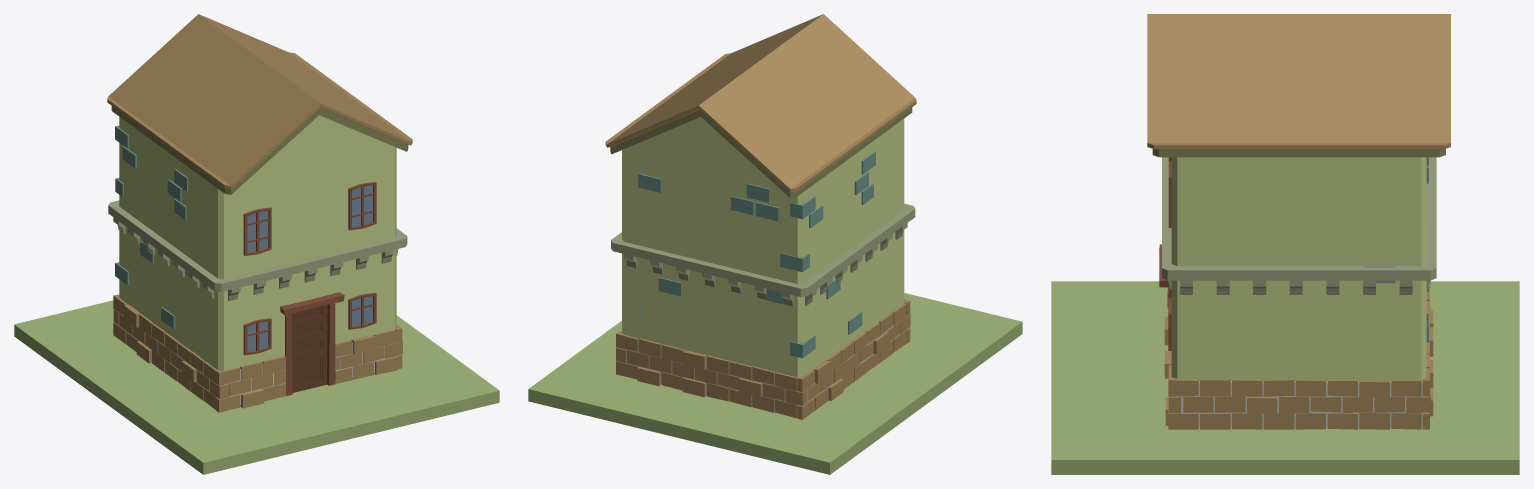
Rendered from 2.bina 1.fbx.
The picture shows the model from 3 angles, left to right: view 1: azimuth 30°, elevation 25°; view 2: azimuth 150°, elevation 25°; view 3: azimuth 270°, elevation 25°; orthographic projection. The views are drawn at different scales.
Parts seen in each view (by area): view 1: 2Story_GableRoof_Mat, Cube; view 2: 2Story_GableRoof_Mat, Cube; view 3: 2Story_GableRoof_Mat, Cube.
Part boxes in pixels (x1,y1,x2,y2): 2Story_GableRoof_Mat: [107, 14, 412, 412]; Cube: [14, 300, 499, 474]; 2Story_GableRoof_Mat: [605, 14, 916, 419]; Cube: [528, 293, 1022, 474]; 2Story_GableRoof_Mat: [1147, 14, 1450, 429]; Cube: [1051, 281, 1519, 474].
Size of the model in its own units: 332 by 326 by 367.
